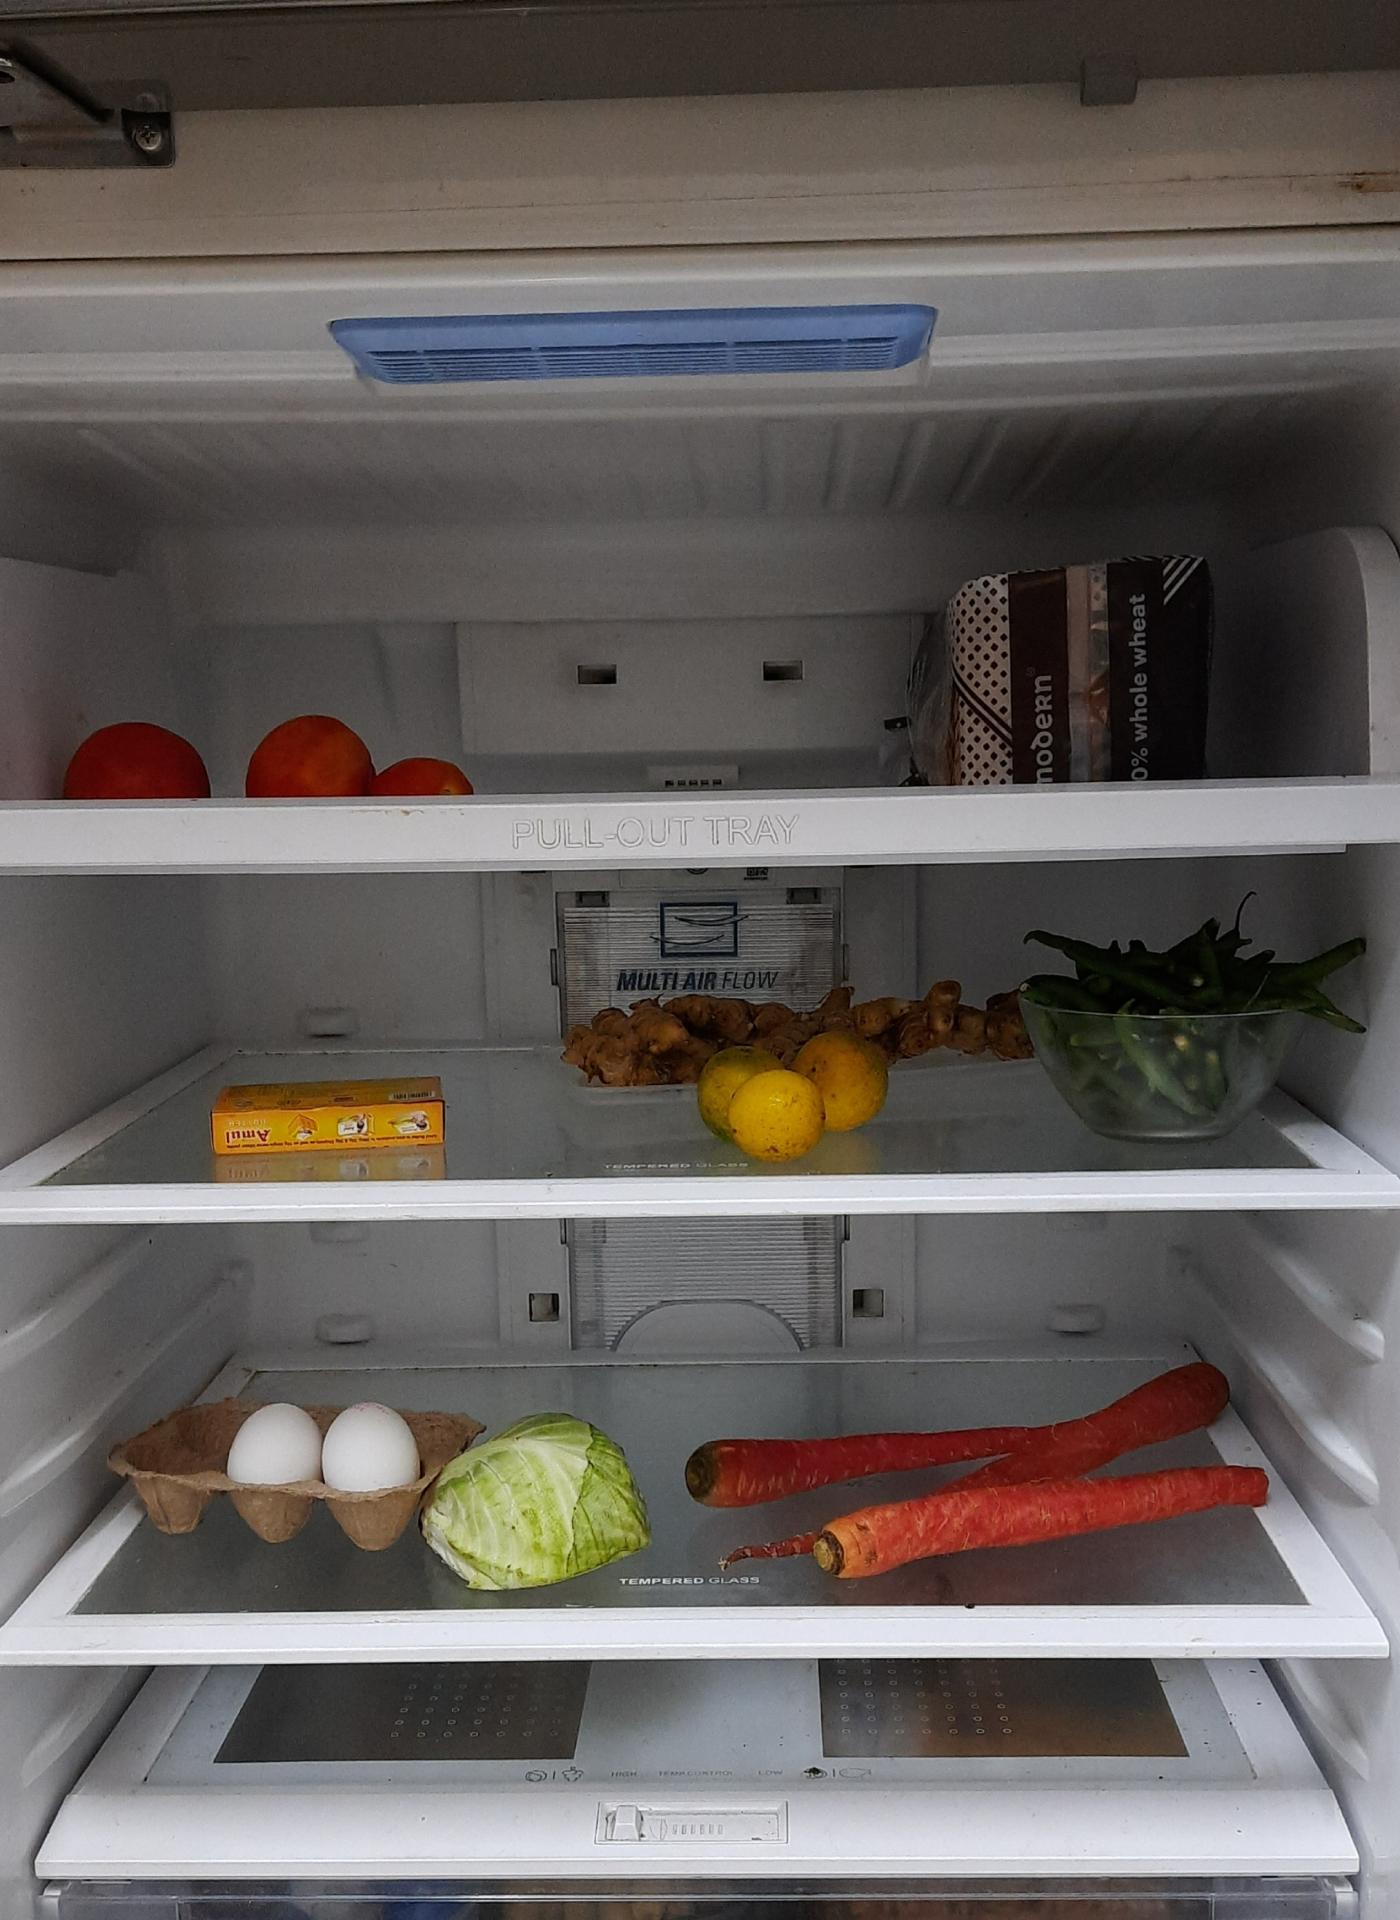bread: (902, 555, 1218, 789)
butter: (206, 1076, 447, 1152)
cabbage: (437, 1415, 660, 1589)
carrots: (663, 1380, 1243, 1585)
chillies: (1039, 924, 1366, 1140)
egg: (224, 1403, 428, 1550)
ginger: (561, 972, 887, 1085), (875, 976, 1033, 1060)
lemon: (696, 1032, 898, 1166)
tomato: (243, 713, 471, 796), (61, 719, 215, 799)
